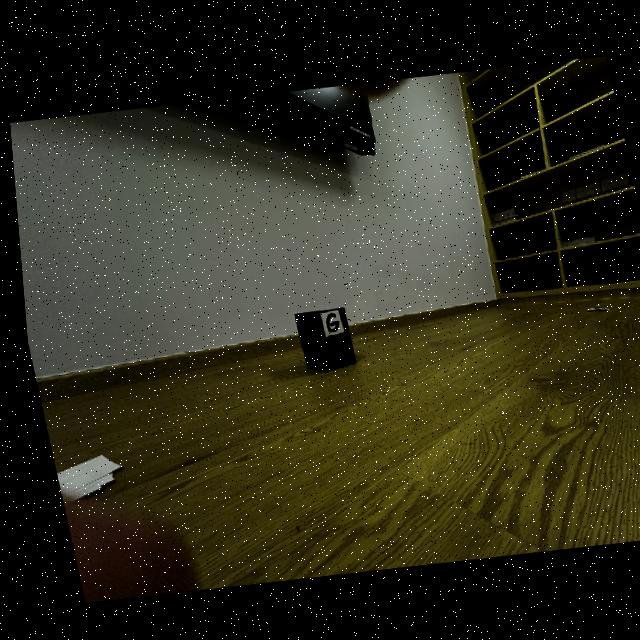G: (320, 310, 337, 331)
